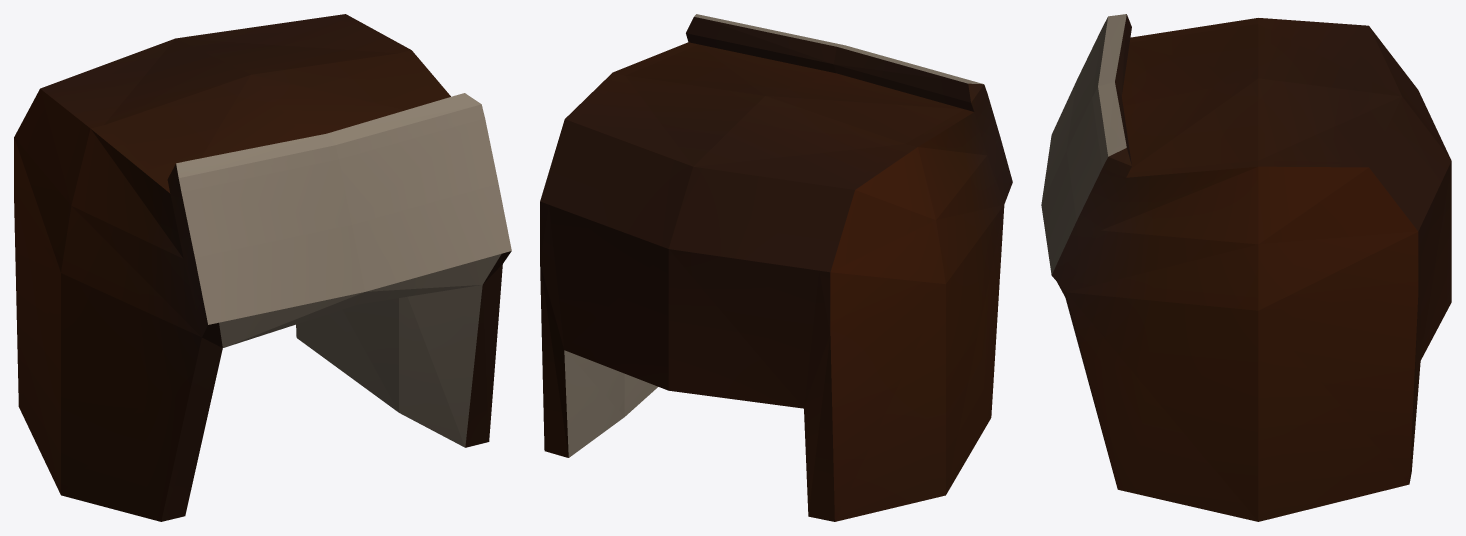
The model's file is Ushanka.fbx.
The picture shows the model from 3 angles, left to right: view 1: azimuth 30°, elevation 25°; view 2: azimuth 150°, elevation 25°; view 3: azimuth 270°, elevation 25°; orthographic projection. The views are drawn at different scales.
Visible parts, largest first — view 1: Cube; view 2: Cube; view 3: Cube.
Boxes of the visible parts, left/top/right/bottom form: Cube: left=14, top=14, right=511, bottom=521; Cube: left=540, top=14, right=1012, bottom=521; Cube: left=1041, top=14, right=1451, bottom=521.
Size of the model in its own units: 28.79 by 27.07 by 28.32.
